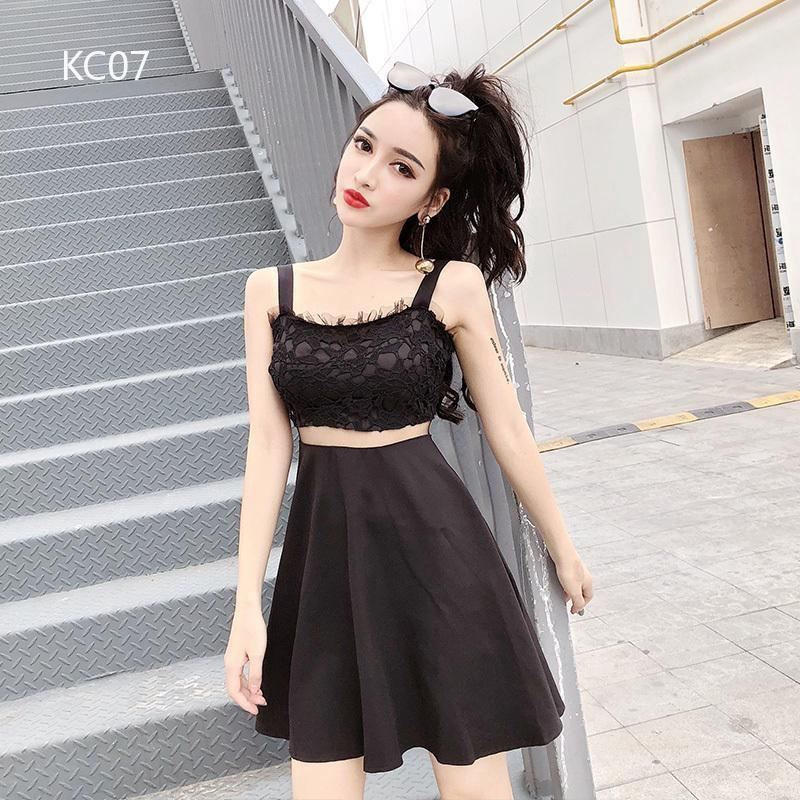skirt: (241, 435, 569, 773)
